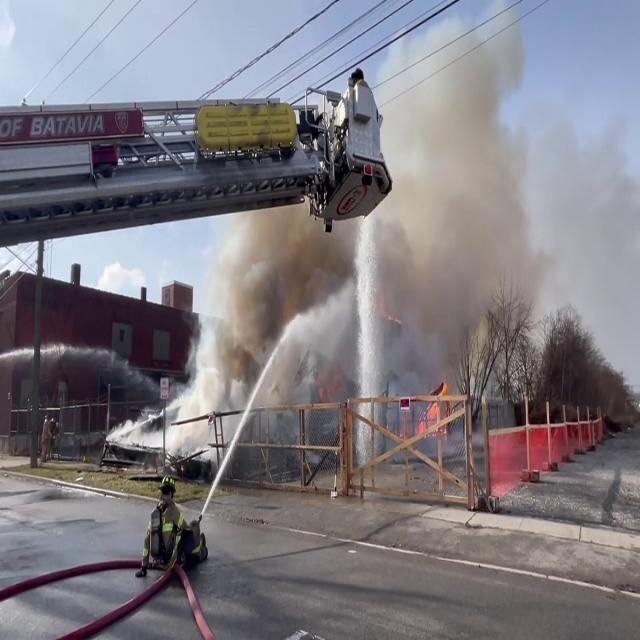Smoke: (158, 1, 544, 424), (158, 206, 364, 439)
